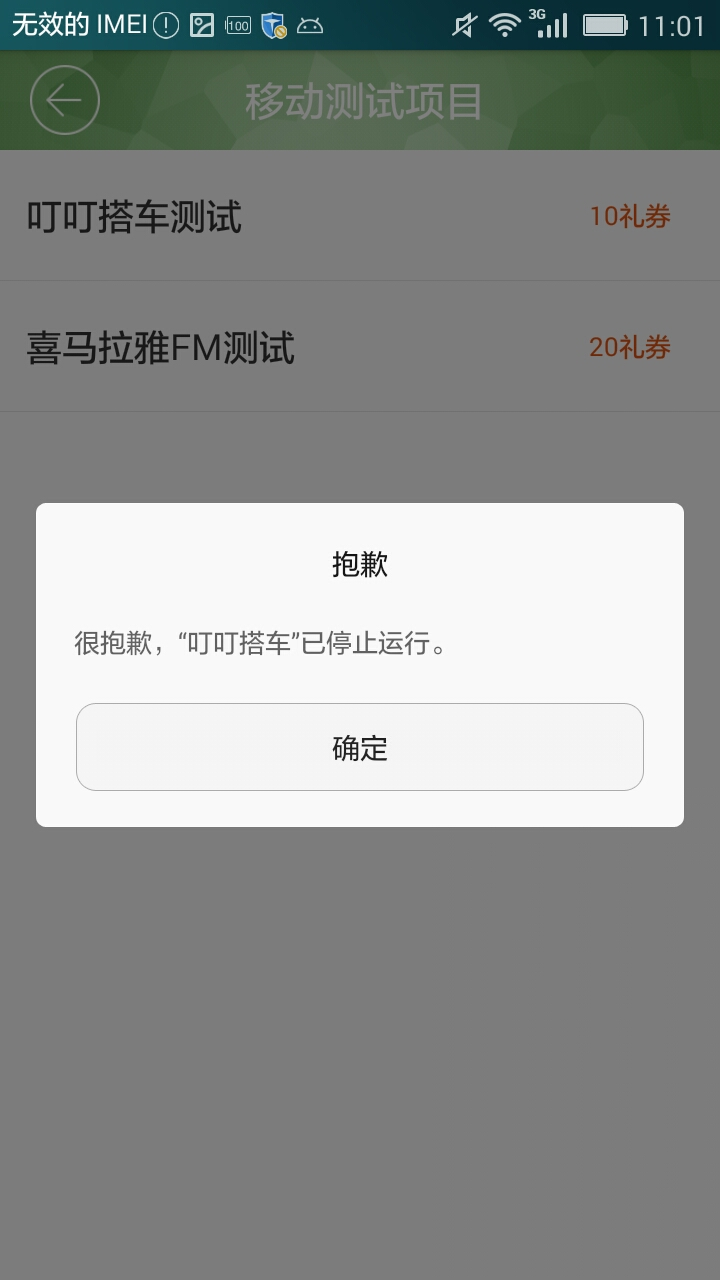alert: (28, 488, 695, 845)
button: (63, 699, 658, 798)
imgbutton: (21, 61, 109, 141)
textview: (67, 615, 474, 676)
